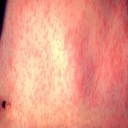Measles: (10, 10, 84, 93)
